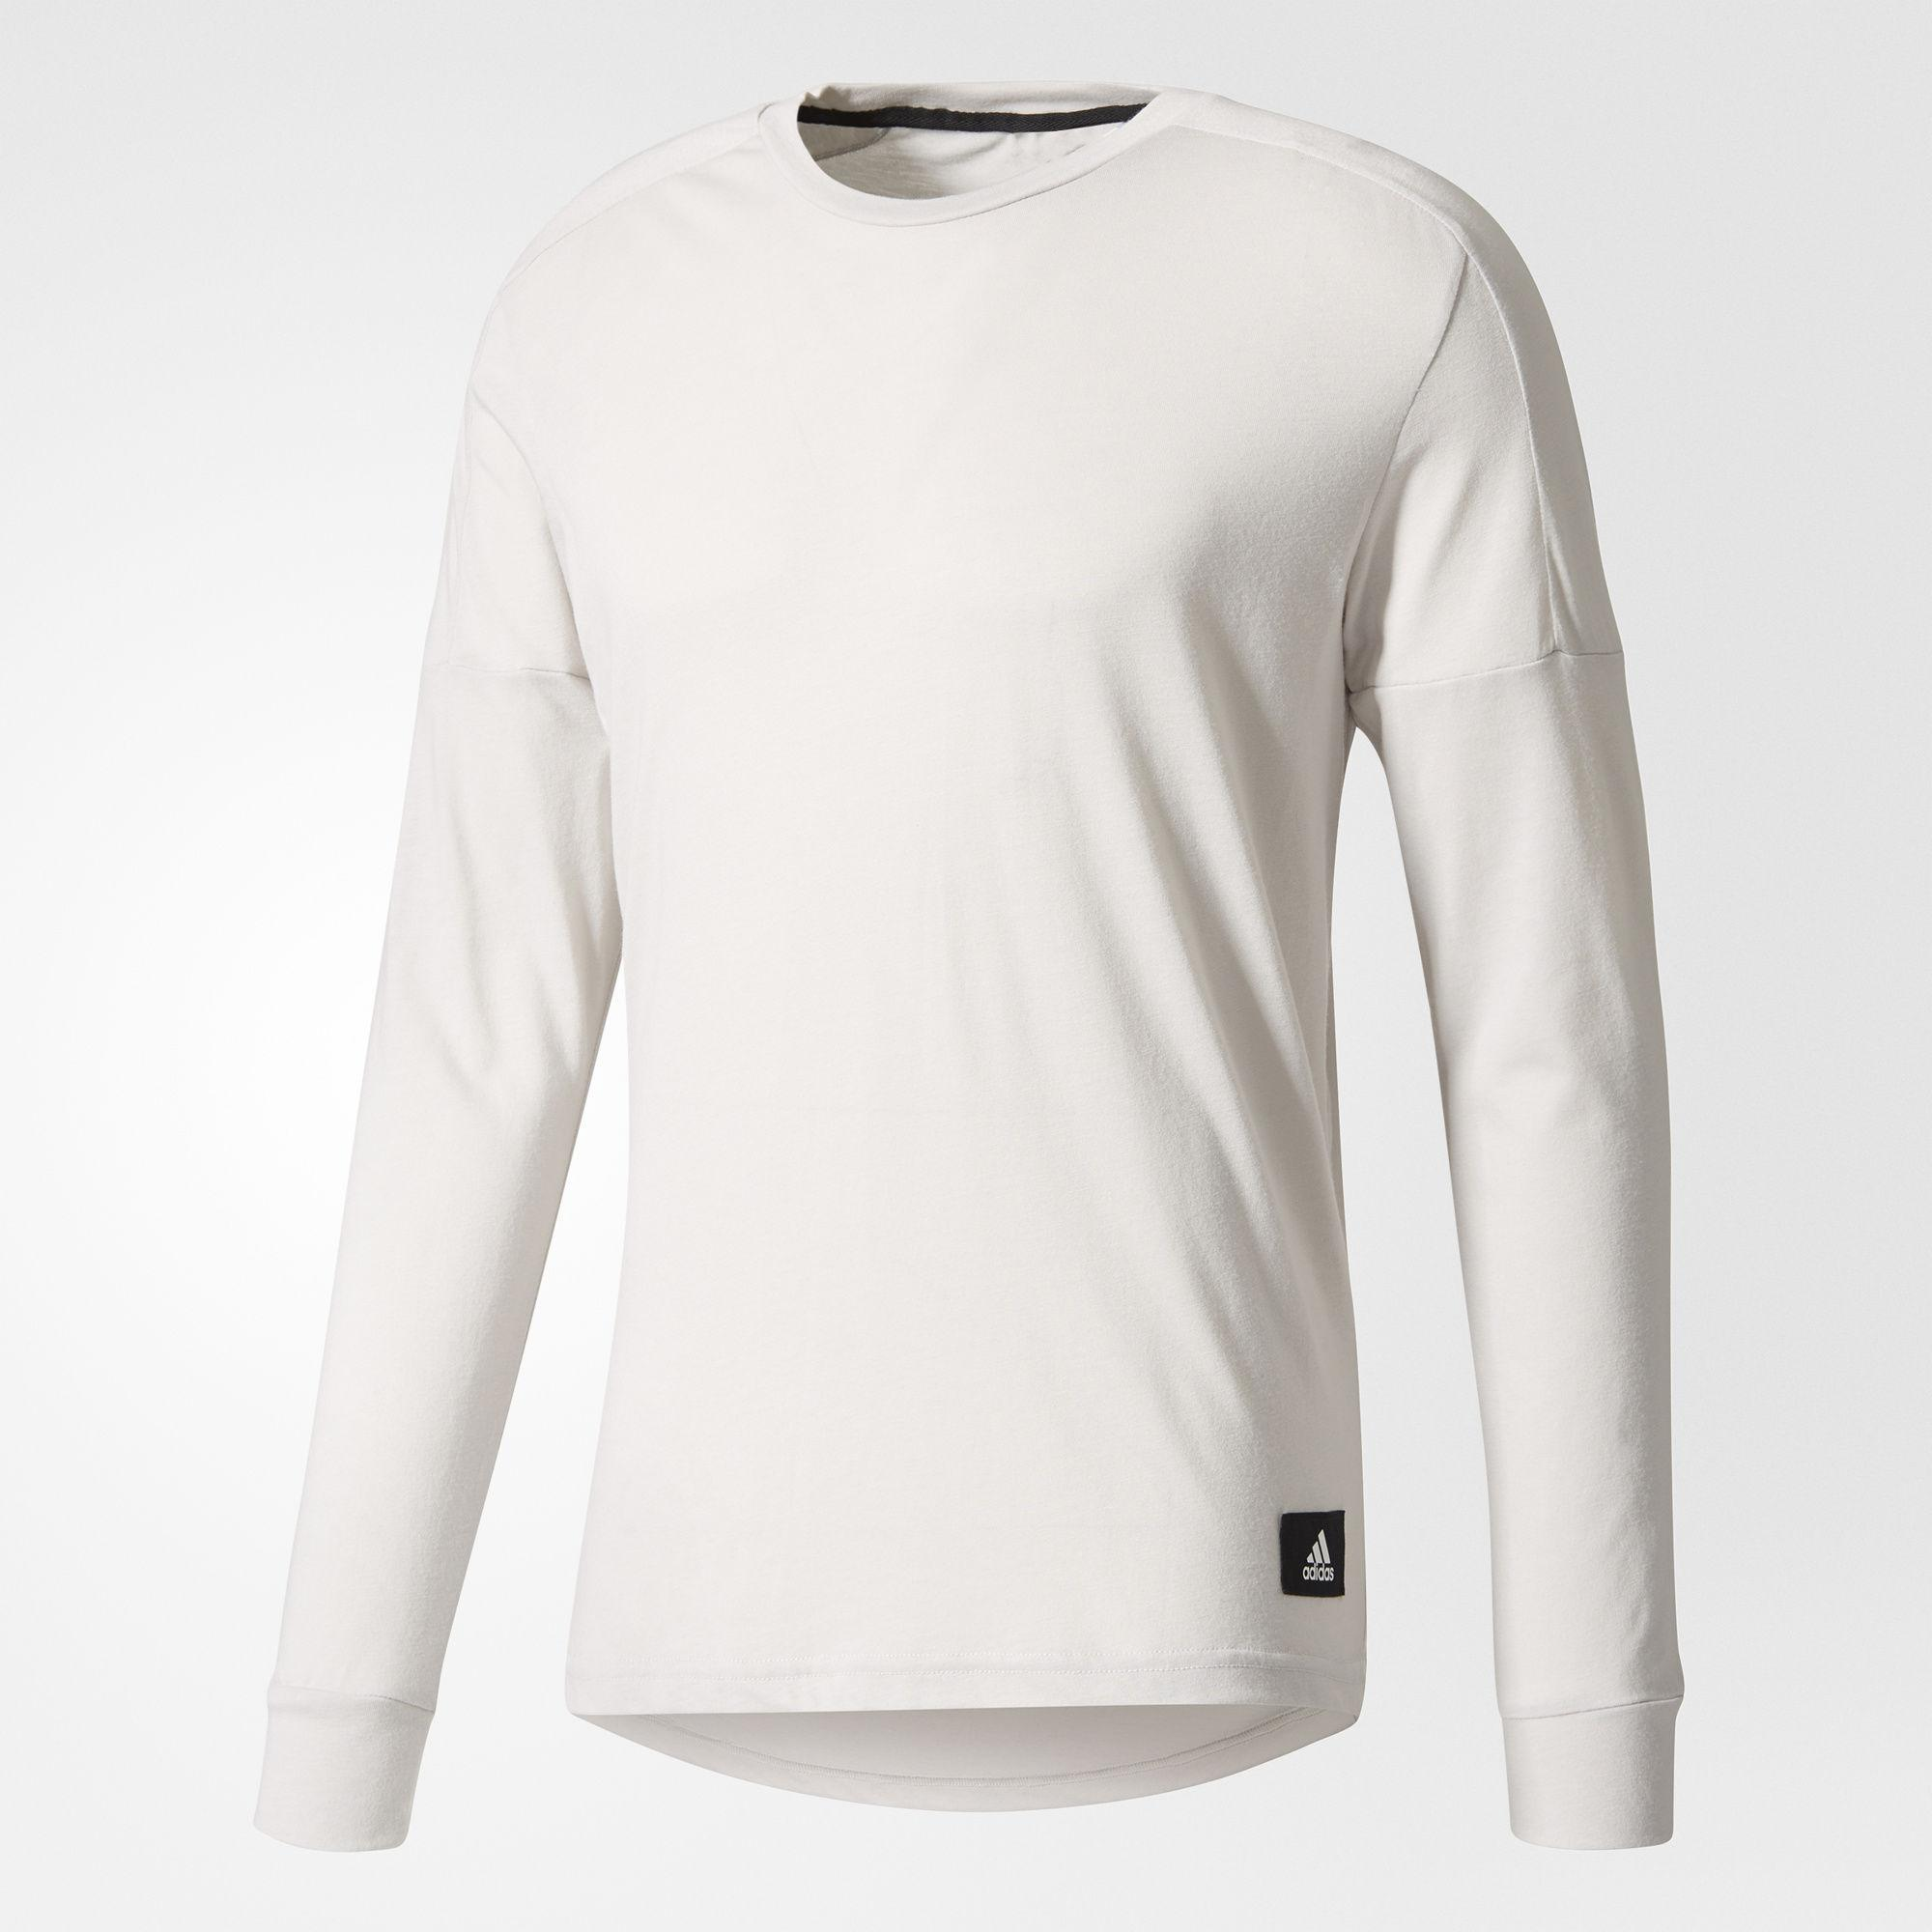teeshirt: (239, 55, 1778, 1930)
